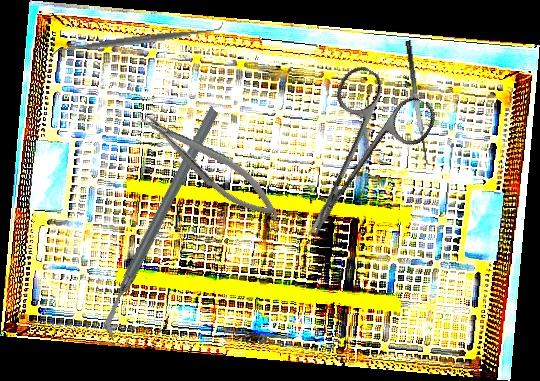Chopper: (36, 104, 288, 342)
Iris Scissors: (264, 60, 442, 260)
Needle Holder: (134, 98, 288, 232)
Spatula Surgical: (47, 20, 226, 61), (404, 38, 438, 167)
